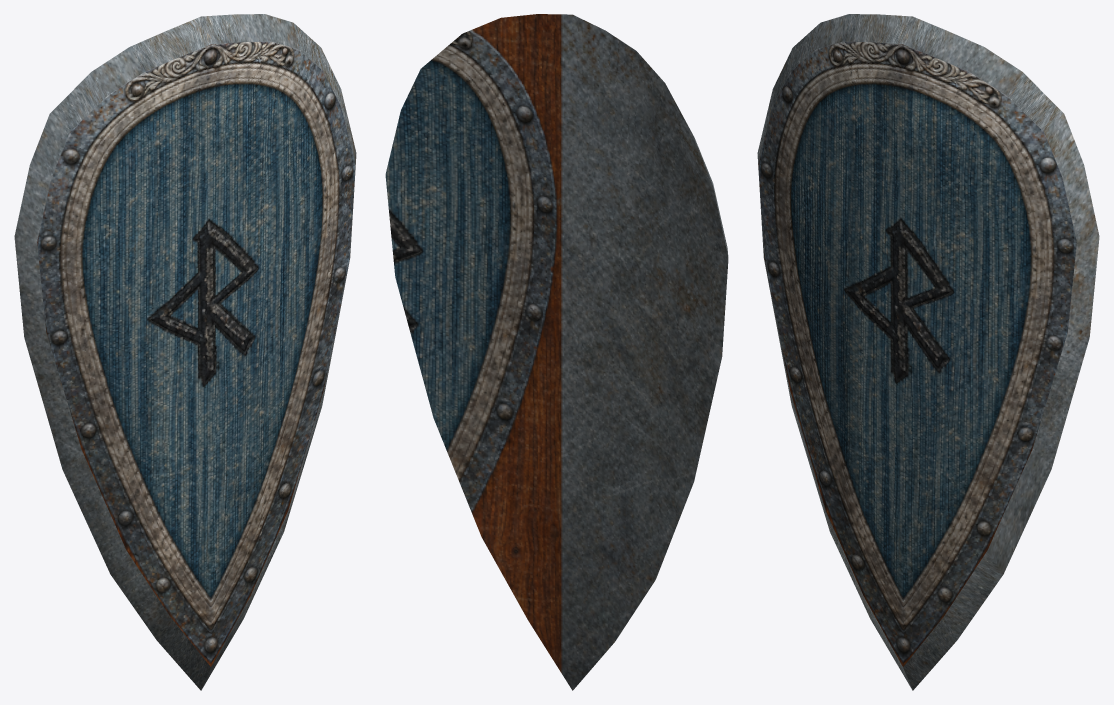
File: mm9_deco_kirashield.glb
3 renders of one model, left to right at view 1: azimuth 30°, elevation 25°; view 2: azimuth 150°, elevation 25°; view 3: azimuth 330°, elevation 25°, orthographic.
Parts seen in each view (by area): view 1: Kirashield; view 2: Kirashield; view 3: Kirashield.
Boxes of the visible parts, left/top/right/bottom form: Kirashield: left=14, top=14, right=356, bottom=690; Kirashield: left=385, top=14, right=728, bottom=690; Kirashield: left=757, top=14, right=1099, bottom=690.
Bounding box in the file's own units: 0.7745 × 1.46 × 0.0998.
Materials: 1 (1 with a texture image).
